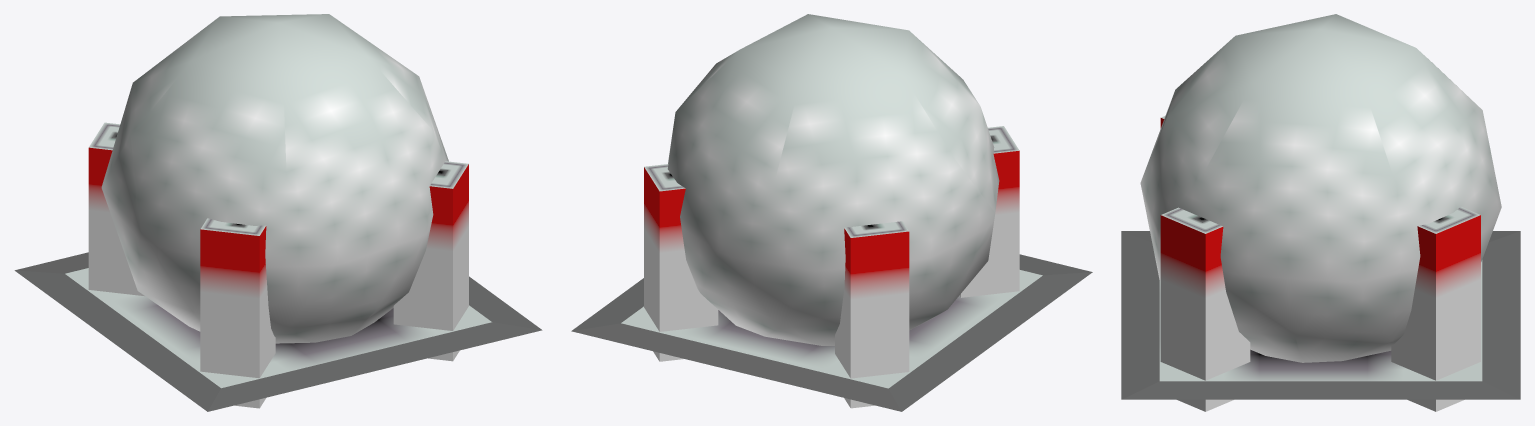
The model's file is Bld_Oil_Sphere_Huge.fbx.
3 renders of one model, left to right at view 1: azimuth 30°, elevation 25°; view 2: azimuth 150°, elevation 25°; view 3: azimuth 270°, elevation 25°, orthographic. The views are drawn at different scales.
Visible parts, largest first — view 1: BLD_Oil_Sphere_Huge; view 2: BLD_Oil_Sphere_Huge; view 3: BLD_Oil_Sphere_Huge.
Boxes of the visible parts, box(x1,y1,x2,y2) form: BLD_Oil_Sphere_Huge: box(14, 14, 542, 411); BLD_Oil_Sphere_Huge: box(571, 14, 1092, 411); BLD_Oil_Sphere_Huge: box(1121, 14, 1520, 411).
Size of the model in its own units: 801 by 734 by 801.
